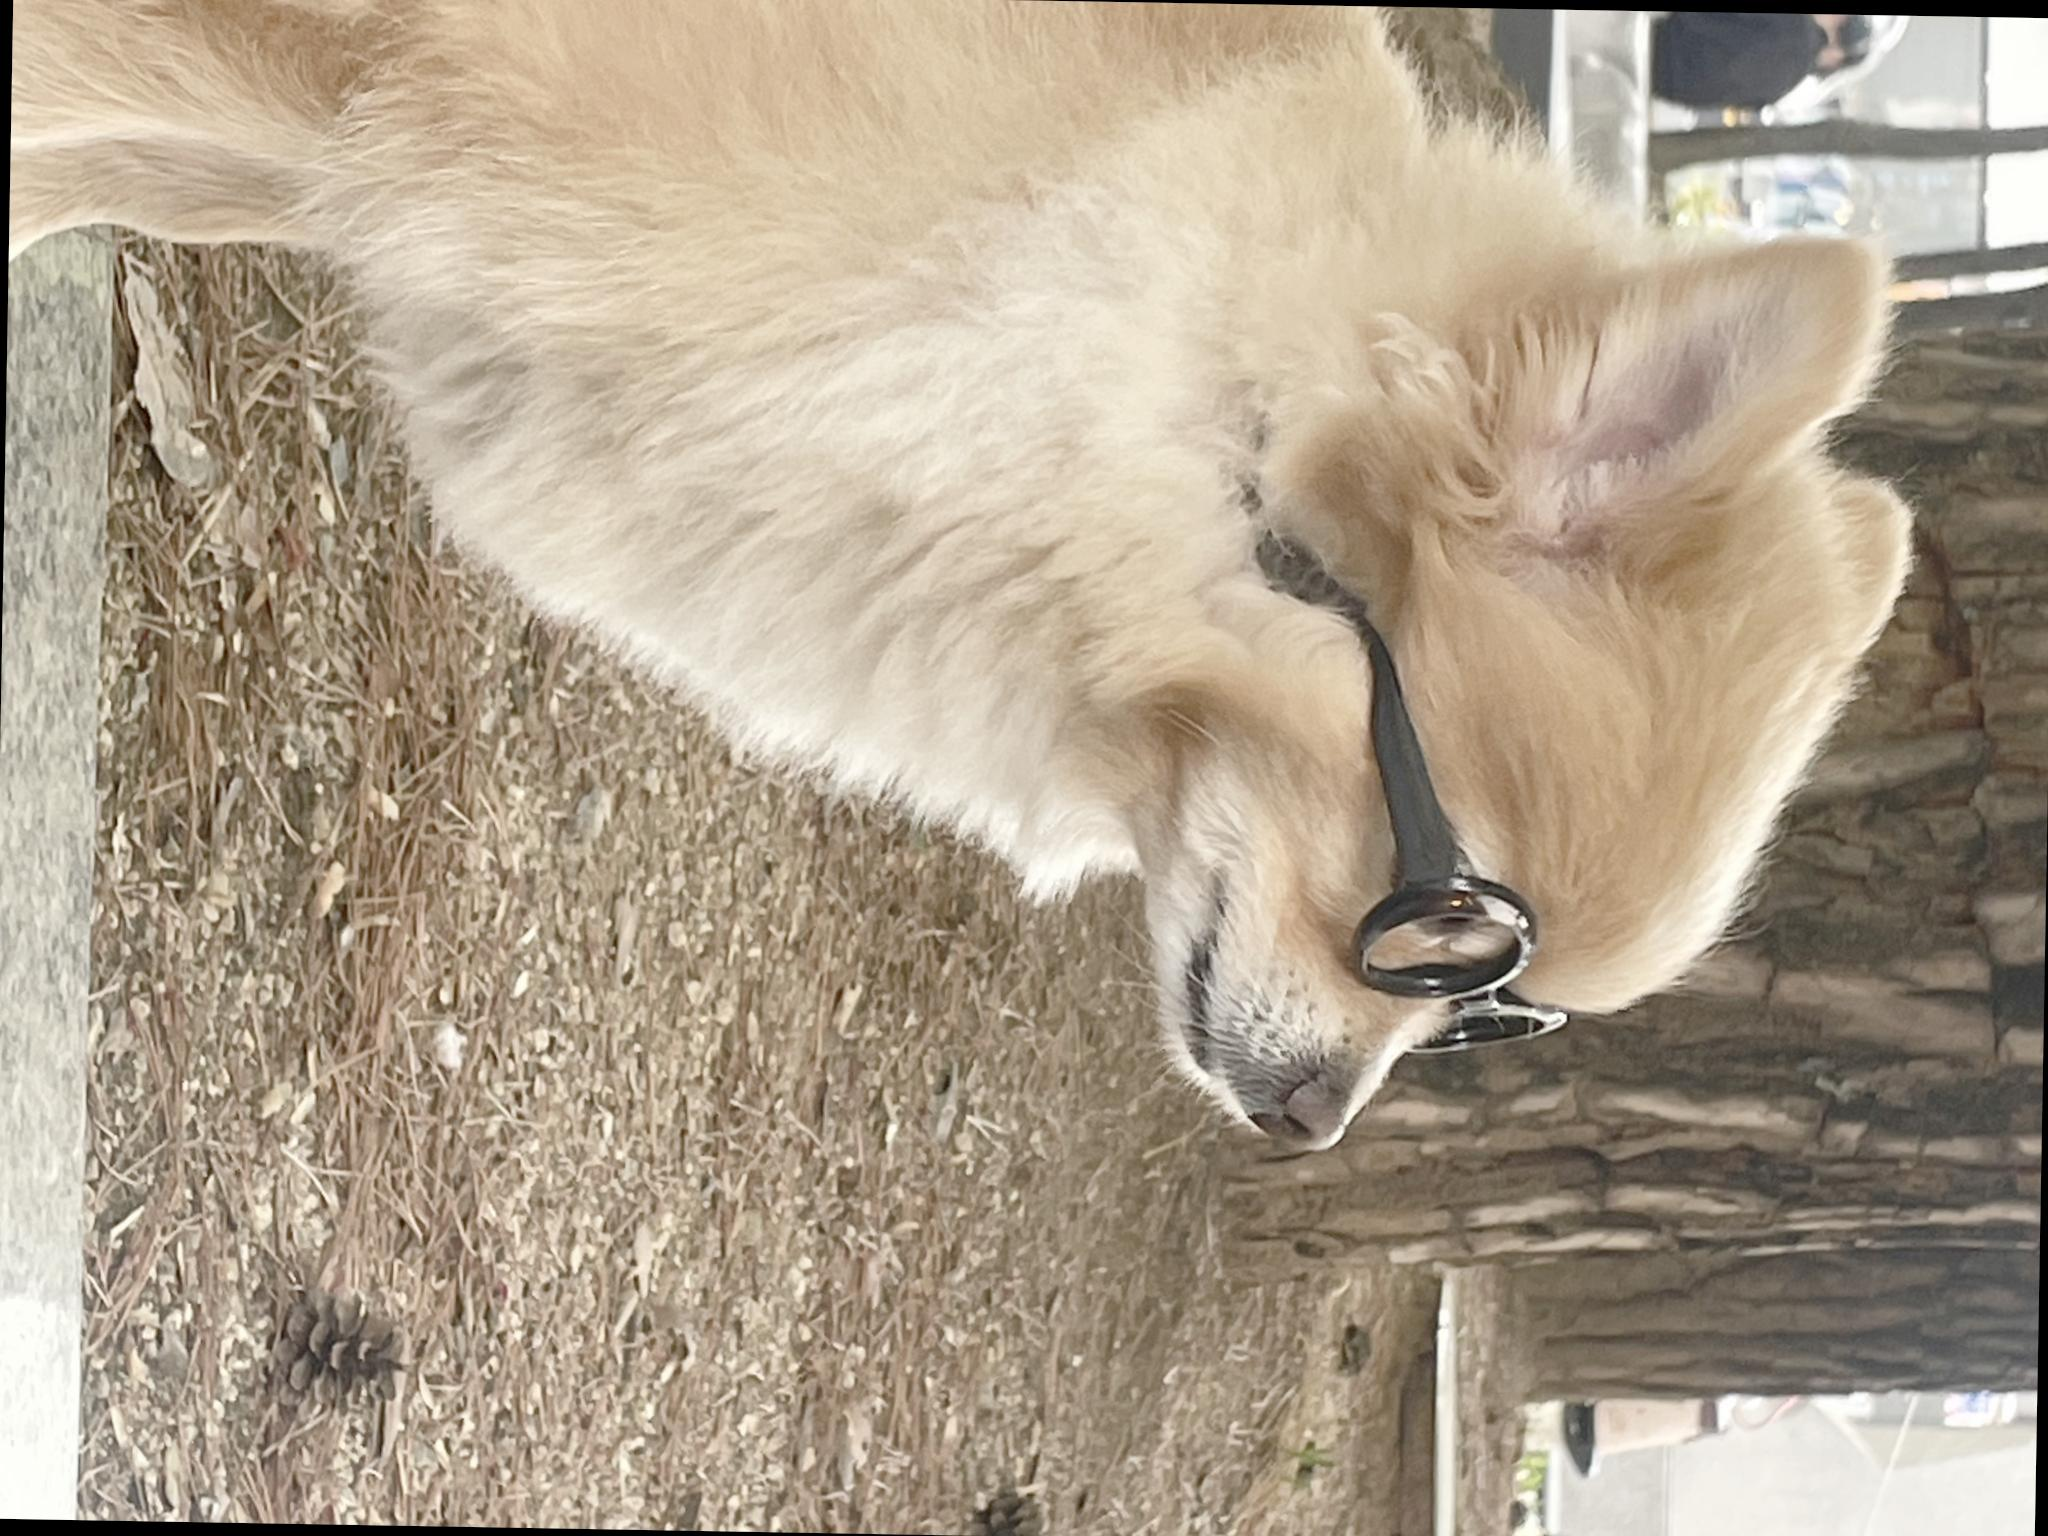dog: (502, 124, 1674, 1536)
